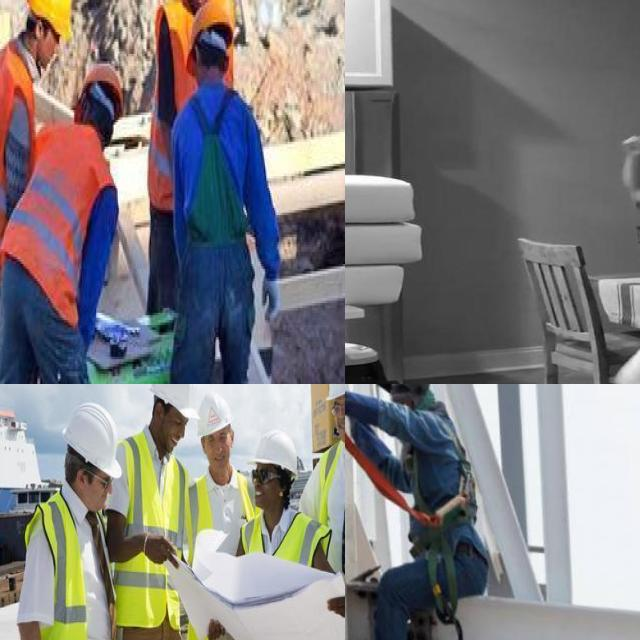Harness: (345, 431, 475, 528)
No_Ear-Protection: (152, 400, 166, 426), (74, 465, 86, 490)
face_nomask: (71, 465, 117, 517), (151, 396, 184, 453), (200, 426, 234, 468), (248, 464, 276, 515), (40, 24, 62, 76), (332, 393, 345, 446)
glasses: (248, 464, 278, 491)
hand_glove: (257, 271, 287, 318)
hand_noglove: (142, 528, 180, 582), (609, 125, 640, 172), (328, 585, 345, 638)
head_helmet: (59, 405, 125, 477), (249, 425, 300, 478), (186, 0, 234, 52), (74, 64, 126, 110), (25, 0, 76, 39), (148, 384, 201, 420), (198, 391, 232, 438)
person: (6, 63, 126, 384), (175, 0, 263, 384), (151, 0, 238, 307), (542, 120, 640, 384), (13, 405, 123, 640), (115, 384, 201, 640), (243, 426, 327, 640), (189, 394, 254, 640), (0, 0, 41, 384)
vest: (17, 122, 101, 313), (25, 504, 111, 640), (119, 440, 180, 626), (245, 504, 322, 640), (148, 0, 196, 210), (191, 469, 248, 640), (0, 51, 23, 261), (320, 431, 345, 595)
